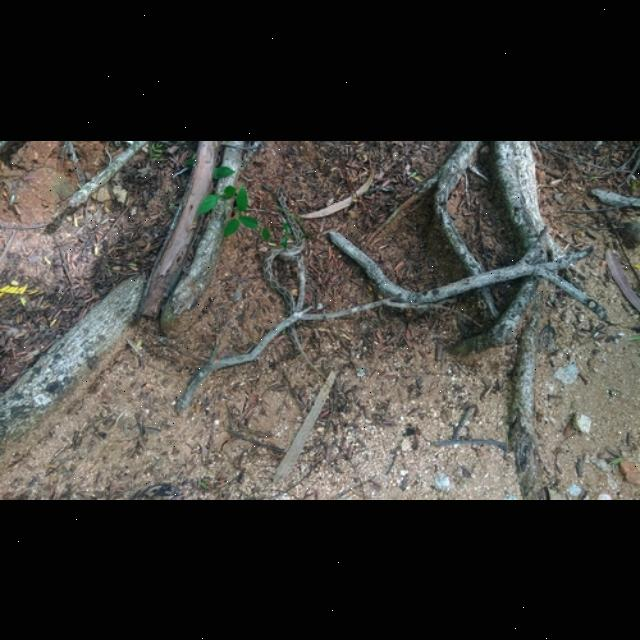snake: (251, 176, 313, 390)
